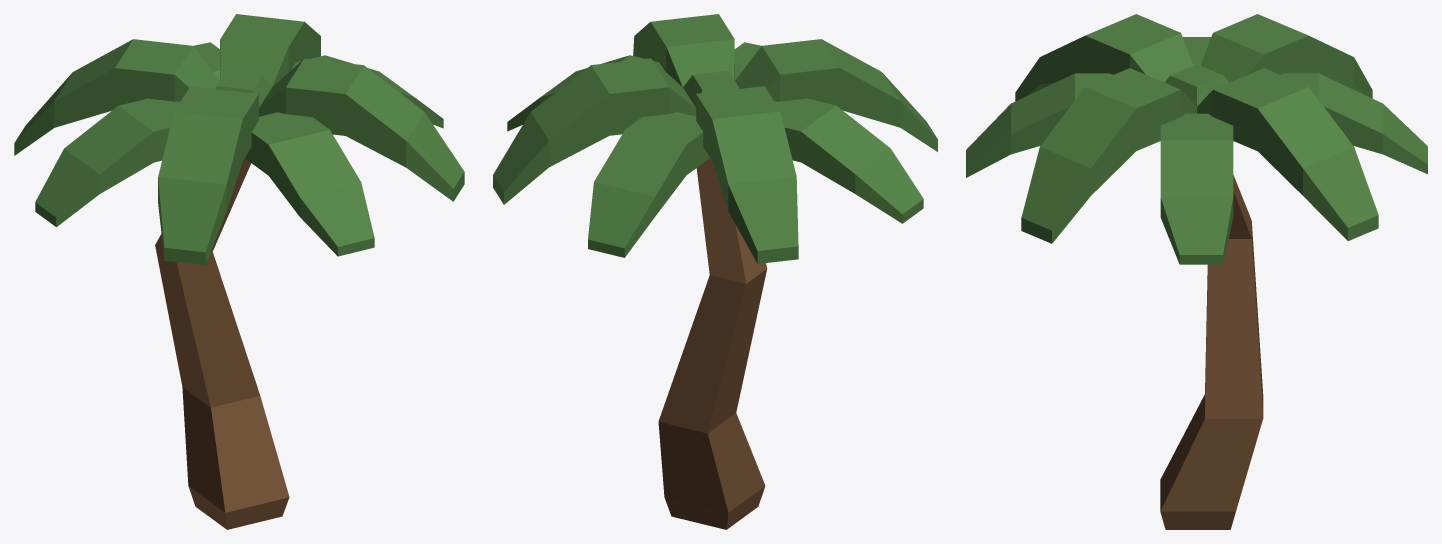
Rendered from kenney_palm_detailed_short.glb.
3 renders of one model, left to right at view 1: azimuth 30°, elevation 25°; view 2: azimuth 150°, elevation 25°; view 3: azimuth 270°, elevation 25°, orthographic. The views are drawn at different scales.
Parts seen in each view (by area): view 1: leafs (×2), tree_palmDetailedShort; view 2: leafs (×2), tree_palmDetailedShort; view 3: leafs (×2), tree_palmDetailedShort.
Part boxes in pixels (x1,y1,x2,y2): leafs (×2): [14, 14, 464, 265]; tree_palmDetailedShort: [155, 158, 289, 529]; leafs (×2): [493, 14, 937, 263]; tree_palmDetailedShort: [658, 158, 767, 529]; leafs (×2): [966, 14, 1427, 264]; tree_palmDetailedShort: [1160, 175, 1263, 529].
Size of the model in its own units: 1.03 by 1.12 by 1.03.
